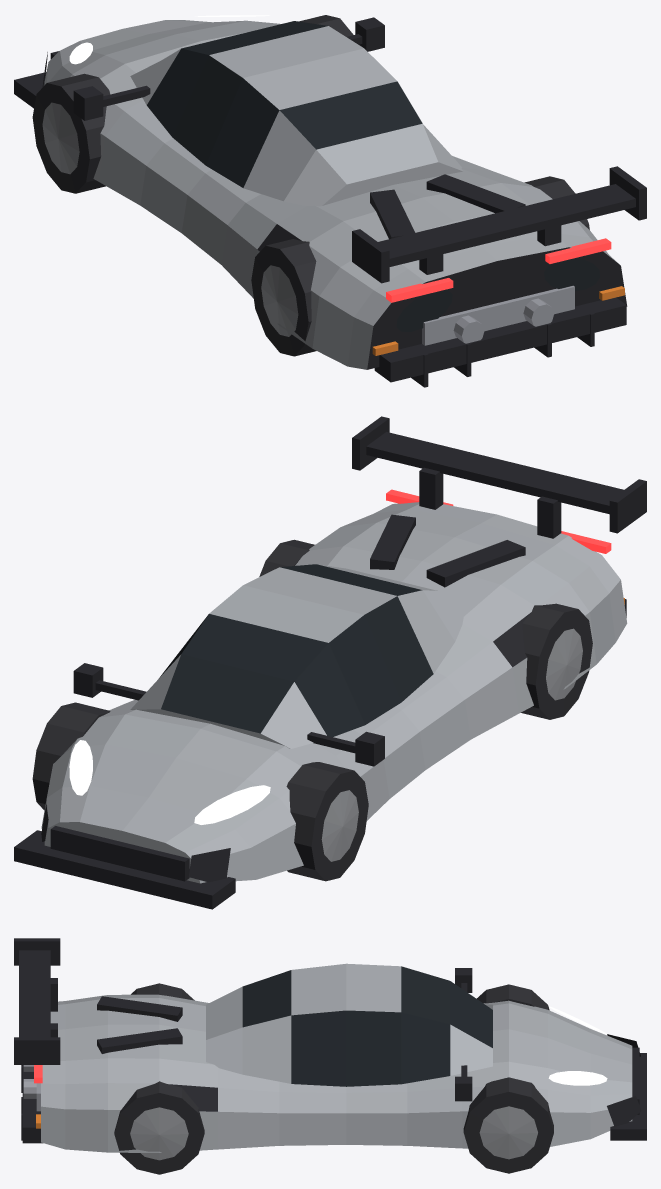
The model's file is car6.glb.
3 views of the same model, one above another, from view 1: azimuth 30°, elevation 25°; view 2: azimuth 150°, elevation 25°; view 3: azimuth 270°, elevation 25° (orthographic). The views are drawn at different scales.
Visible parts, largest first — view 1: Body, Wheel_FL, Wheel_RL, Wheel_RR; view 2: Body, Wheel_FL, Wheel_RL, Wheel_FR, Wheel_RR; view 3: Body, Wheel_FR, Wheel_RR, Wheel_FL, Wheel_RL.
Boxes of the visible parts, <box> form: Body: <box>14,15,646,387</box>; Wheel_FL: <box>32,73,110,193</box>; Wheel_RL: <box>251,239,316,356</box>; Wheel_RR: <box>524,176,589,229</box>; Body: <box>14,416,646,909</box>; Wheel_FL: <box>286,762,368,881</box>; Wheel_RL: <box>521,603,592,719</box>; Wheel_FR: <box>32,702,110,810</box>; Wheel_RR: <box>259,539,314,576</box>; Body: <box>14,938,646,1152</box>; Wheel_FR: <box>463,1077,553,1173</box>; Wheel_RR: <box>114,1081,204,1174</box>; Wheel_FL: <box>476,984,549,1010</box>; Wheel_RL: <box>131,983,194,1000</box>.
Bounding box in the file's own units: 2.24 × 1.2 × 5.18.
